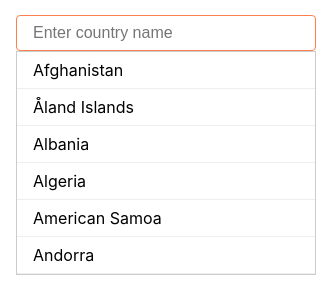
Test: CountrySelector › renders countries list if name matches
This screenshot has width=333, height=292.
Type "Al" into the field with placeholder "Enter country name" at (166, 33), box [16, 15, 316, 51]
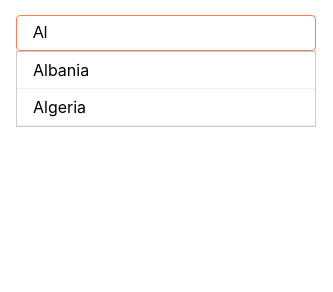
Expected: the number of list items is 2, [17, 52, 315, 89]; [17, 89, 315, 126]
